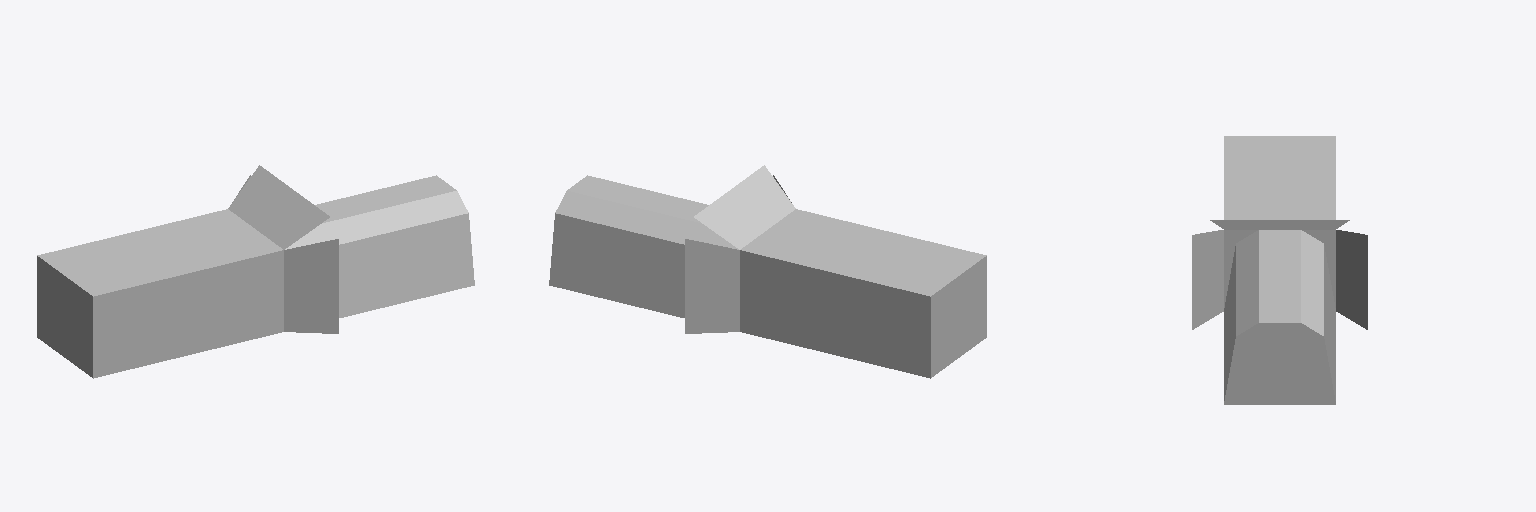
The model's file is candy-bar-wrapper.obj.
3 renders of one model, left to right at view 1: azimuth 30°, elevation 25°; view 2: azimuth 150°, elevation 25°; view 3: azimuth 270°, elevation 25°, orthographic.
Parts seen in each view (by area): view 1: candy-bar-wrapper; view 2: candy-bar-wrapper; view 3: candy-bar-wrapper.
Boxes of the visible parts, x1=… form: candy-bar-wrapper: x1=37, y1=165, x2=474, y2=378; candy-bar-wrapper: x1=549, y1=165, x2=986, y2=378; candy-bar-wrapper: x1=1192, y1=136, x2=1367, y2=404.
Bounding box in the file's own units: 0.2924 × 0.0812 × 0.1169.